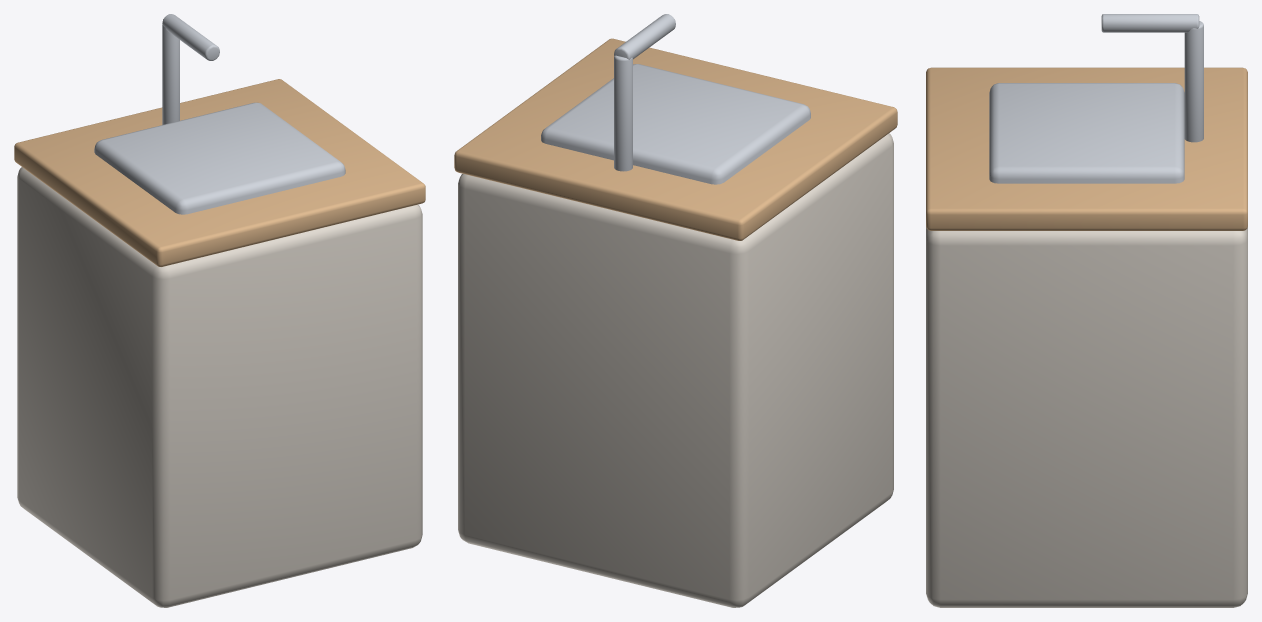
The model's file is sink.glb.
3 renders of one model, left to right at view 1: azimuth 30°, elevation 25°; view 2: azimuth 150°, elevation 25°; view 3: azimuth 270°, elevation 25°, orthographic. The views are drawn at different scales.
Parts seen in each view (by area): view 1: sink; view 2: sink; view 3: sink.
Part boxes in pixels (left/top/right/bottom): sink: left=14, top=14, right=425, bottom=607; sink: left=454, top=14, right=897, bottom=607; sink: left=926, top=14, right=1247, bottom=607.
Bounding box in the file's own units: 0.7 × 1.19 × 0.66.
